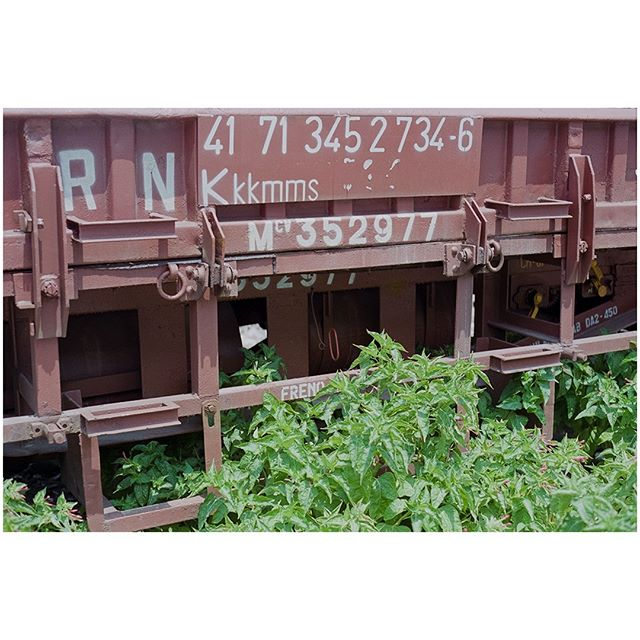train: (1, 111, 640, 456)
vegetation: (225, 373, 640, 532)
